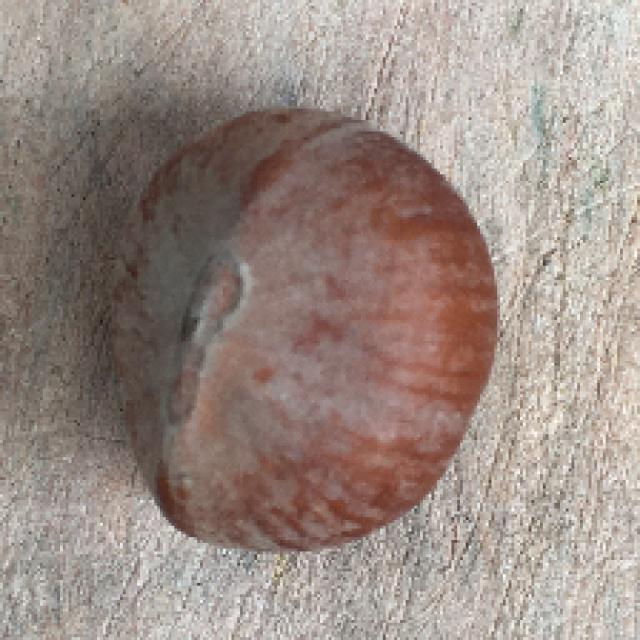qualityHazelnut: (99, 102, 502, 557)
